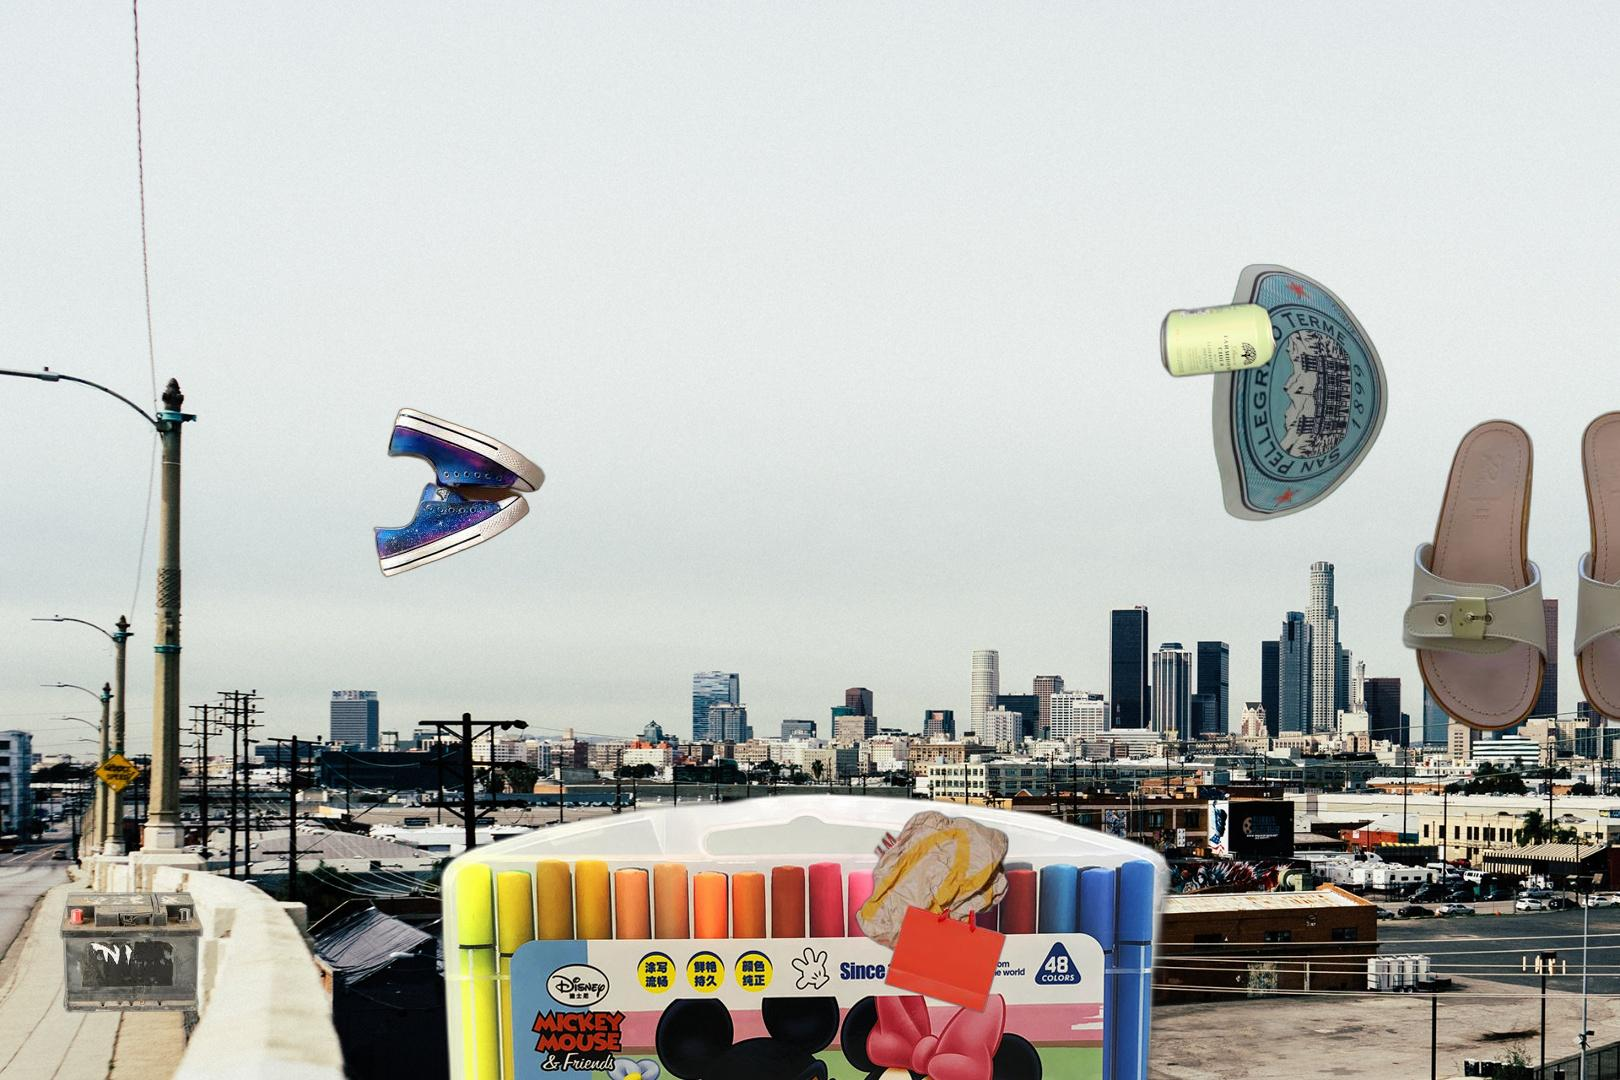battery: (57, 890, 206, 1015)
biological: (861, 986, 1612, 1080)
glass: (1209, 262, 1392, 524)
metal-cans: (1156, 297, 1282, 383)
paper-bag: (776, 809, 1012, 1015)
penholder: (432, 787, 1181, 1080)
shoes: (1399, 407, 1620, 736), (371, 405, 547, 580)
